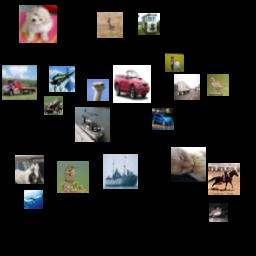airplane: (49, 66, 75, 92), (24, 190, 43, 209)
automobile: (113, 65, 151, 103), (152, 108, 174, 130)
bird: (57, 161, 89, 193), (87, 79, 109, 101), (207, 74, 229, 96), (209, 203, 228, 222)
cat: (171, 147, 206, 182)
deer: (97, 12, 123, 38)
dog: (19, 5, 57, 43)
frog: (44, 96, 63, 115)
ship: (103, 154, 138, 189), (75, 107, 110, 142)
truck: (2, 65, 37, 100), (174, 74, 200, 100), (138, 13, 160, 35)
